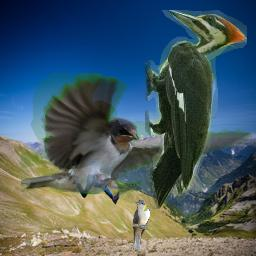Cuckoo: (132, 200, 150, 250)
Swallow: (21, 73, 252, 195)
Woodpecker: (145, 10, 247, 209)
